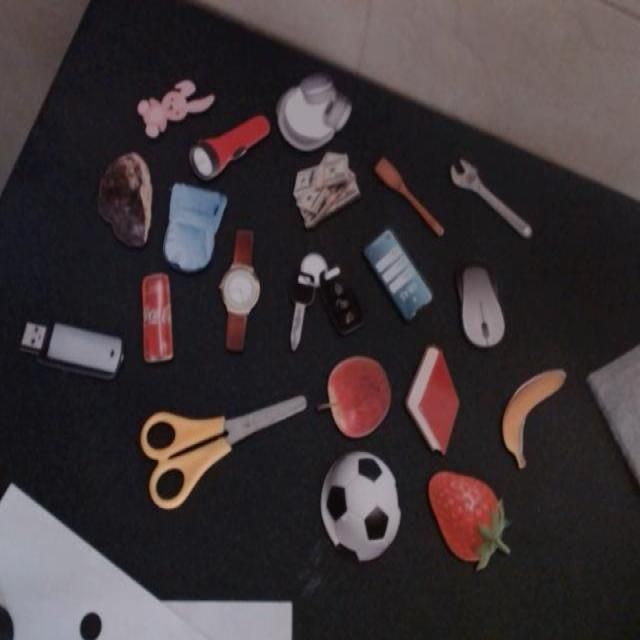Other Objects: (139, 393, 307, 509), (305, 430, 416, 580), (268, 53, 354, 169), (490, 347, 566, 469), (277, 242, 363, 349), (446, 153, 539, 241), (186, 95, 272, 186), (360, 223, 434, 325), (155, 174, 226, 280), (18, 314, 126, 382), (372, 153, 445, 246), (450, 156, 532, 237), (287, 142, 362, 229), (316, 355, 391, 439), (448, 257, 509, 357), (96, 151, 152, 247), (218, 228, 260, 352), (136, 77, 215, 139), (141, 271, 173, 363)
